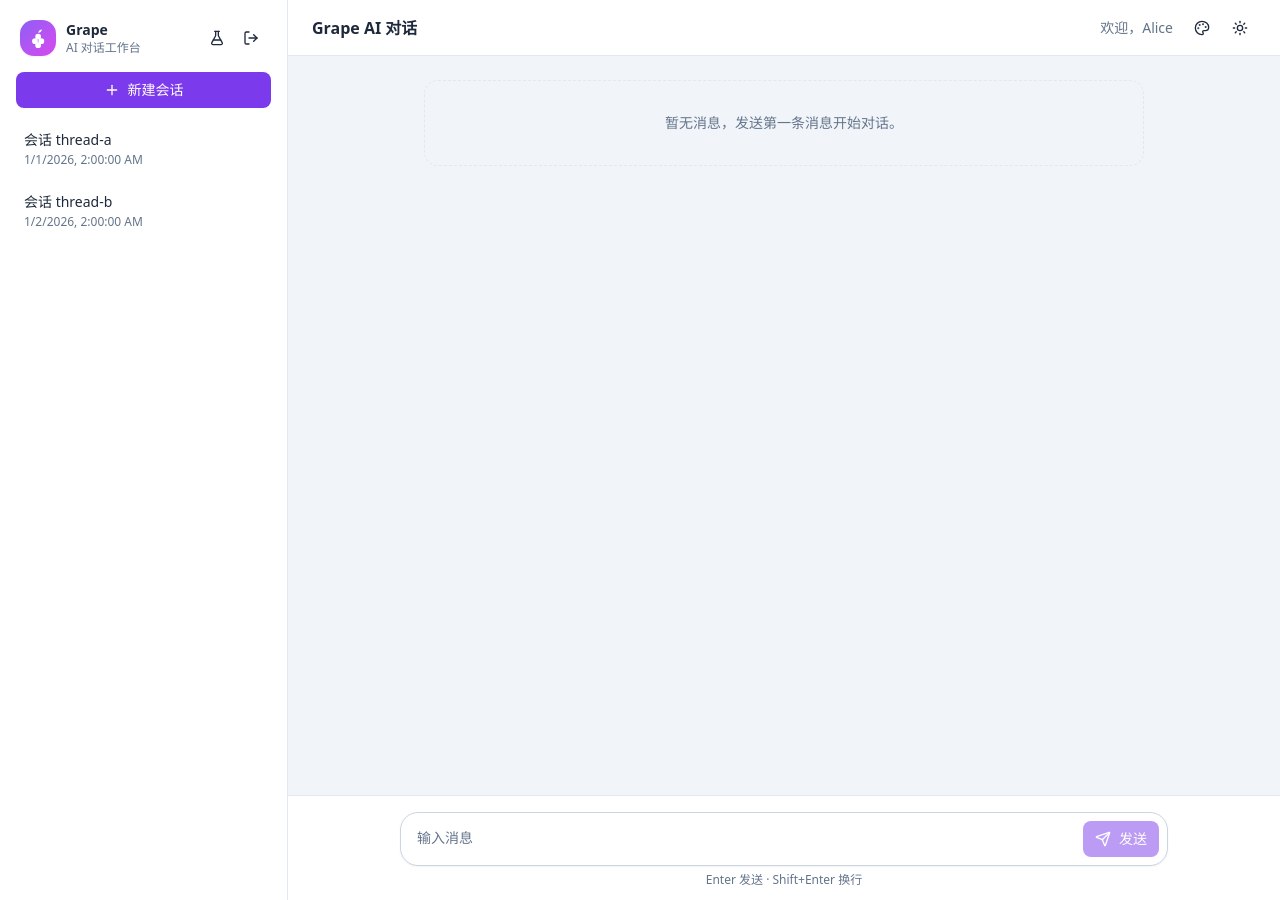
Test: ChatPage streaming run › creates_the_agent_with_current_thread_and_sends_the_user_message
Expected: the list named "会话列表" is shown, [12,120,275,240]
In the text box labelled "输入消息": (742, 839) [409,821,1075,857], type "say ping"
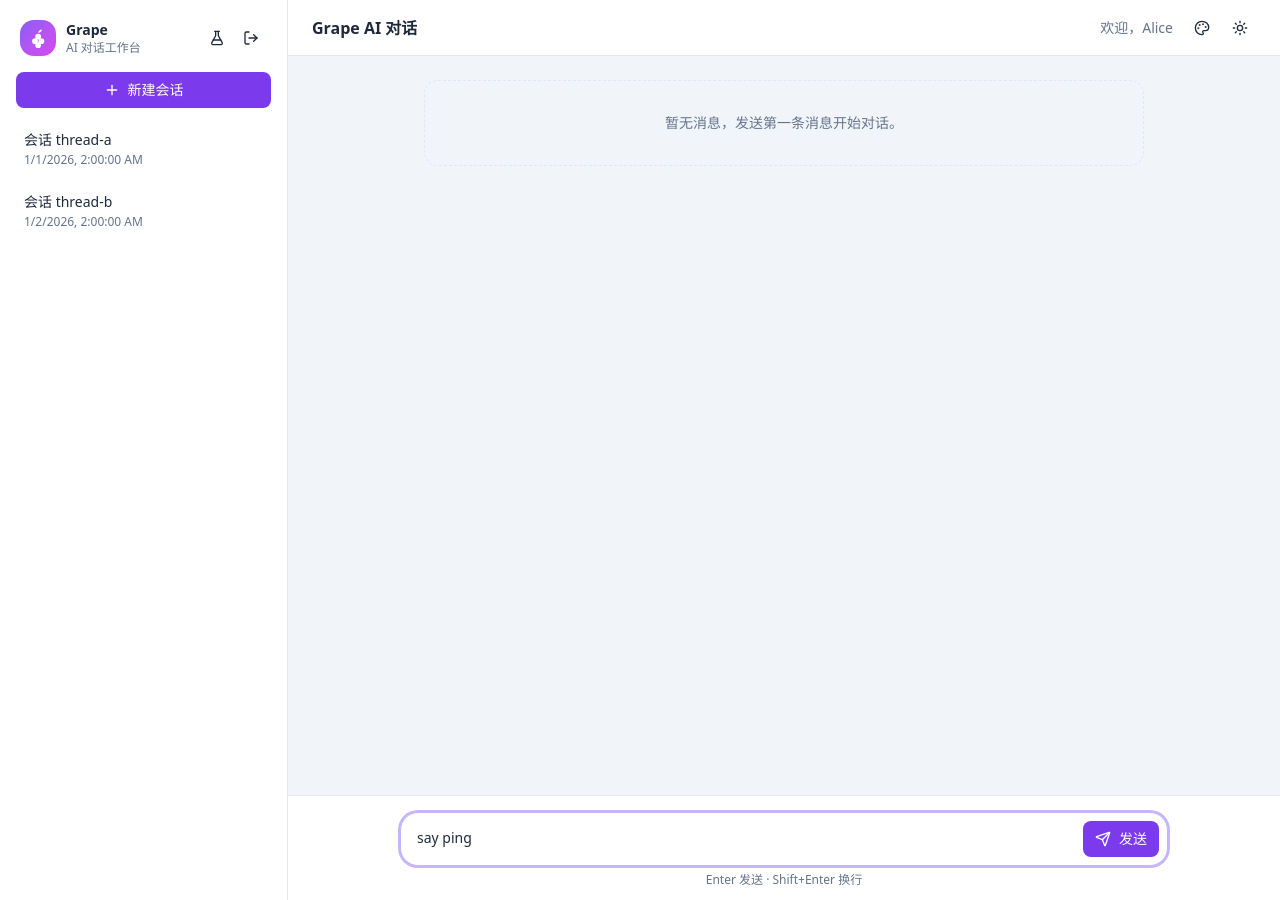
Click the button "发送": click(1121, 839) [1083,821,1159,857]
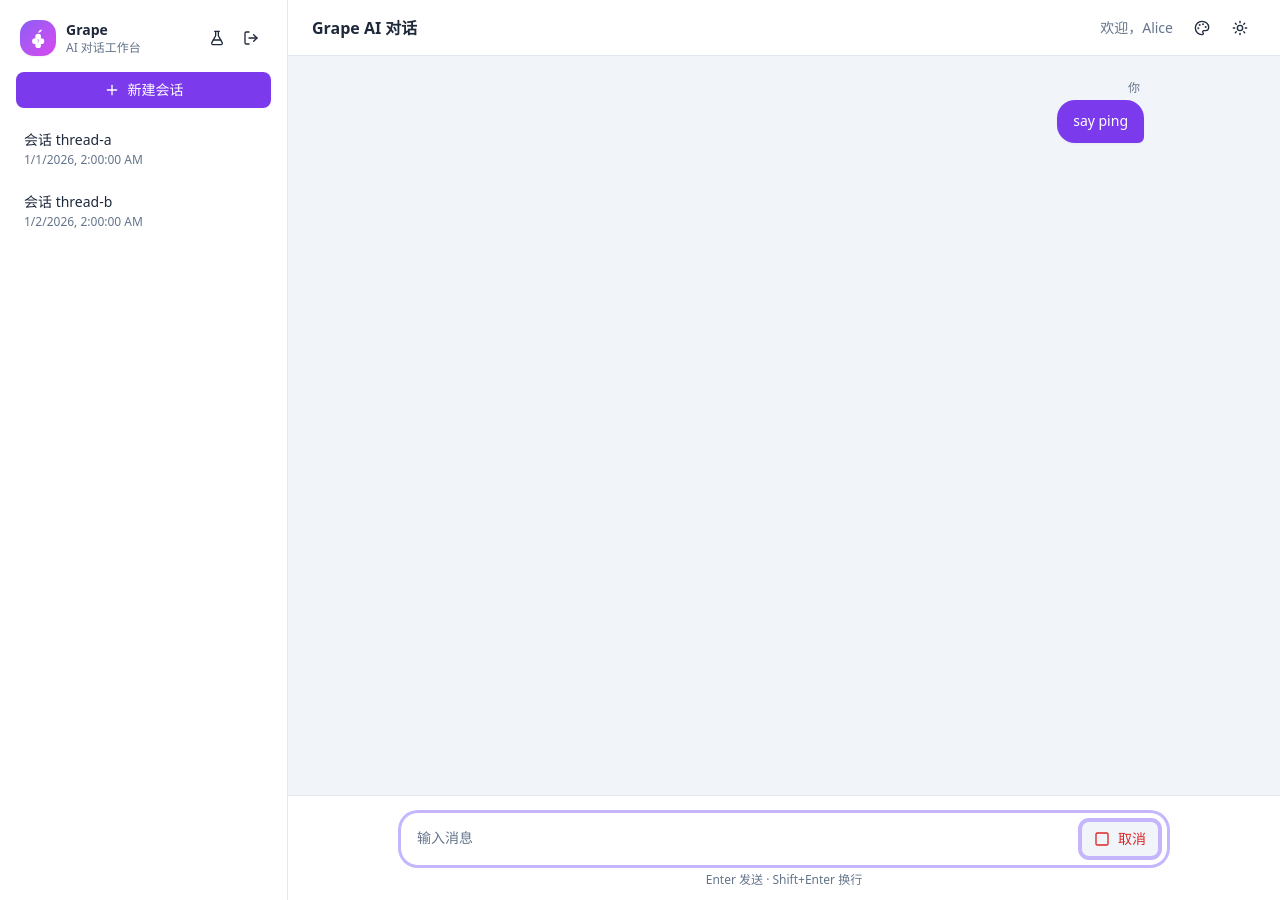
Expected: the element showing "你 say ping" is shown, [1057,79,1144,143]
